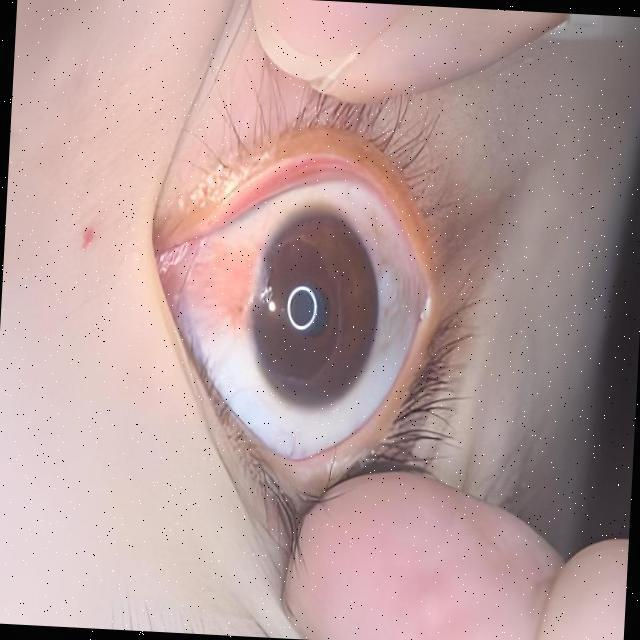Pterygium: (166, 242, 255, 336)
